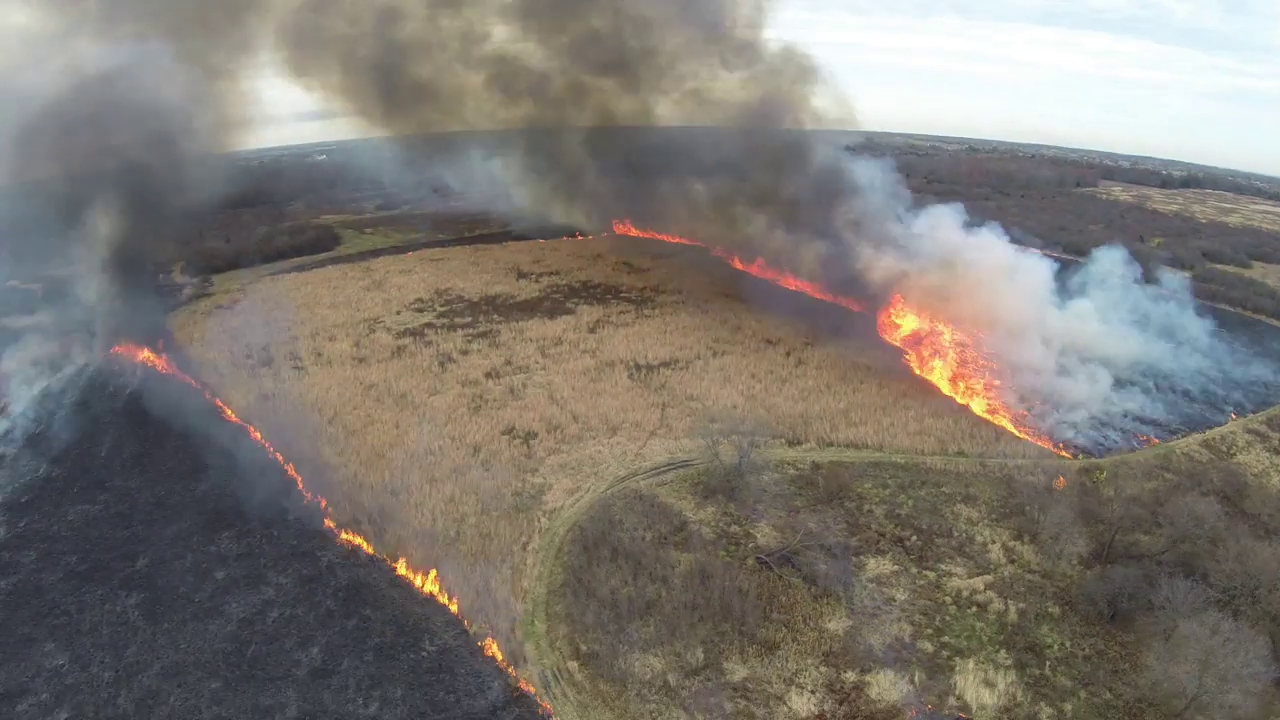forest_fire: (109, 343, 470, 626), (877, 293, 1071, 456), (613, 220, 864, 310), (479, 634, 552, 716)
